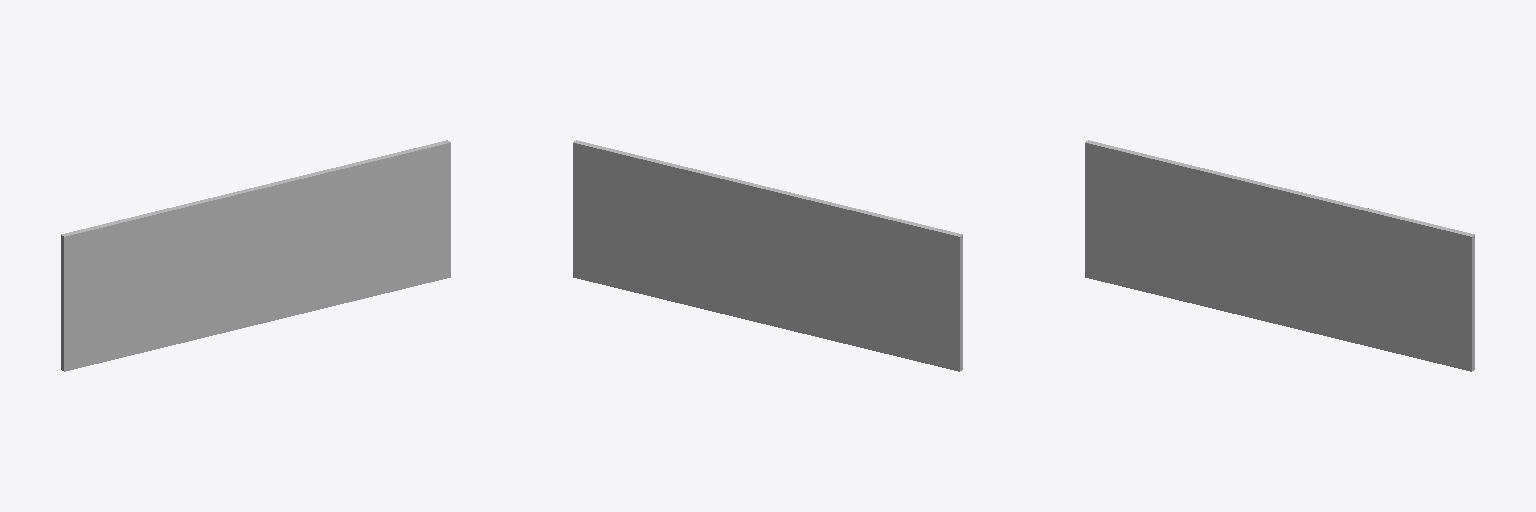
Rendered from Microscope slide with stage micrometer v4.obj.
3 renders of one model, left to right at view 1: azimuth 30°, elevation 25°; view 2: azimuth 150°, elevation 25°; view 3: azimuth 330°, elevation 25°, orthographic.
Visible parts, largest first — view 1: Body1; view 2: Body1; view 3: Body1.
Boxes of the visible parts, <box> form: Body1: <box>61,140,450,371</box>; Body1: <box>573,140,962,371</box>; Body1: <box>1085,140,1474,371</box>.
Bounding box in the file's own units: 7.5 × 2.5 × 0.1101.